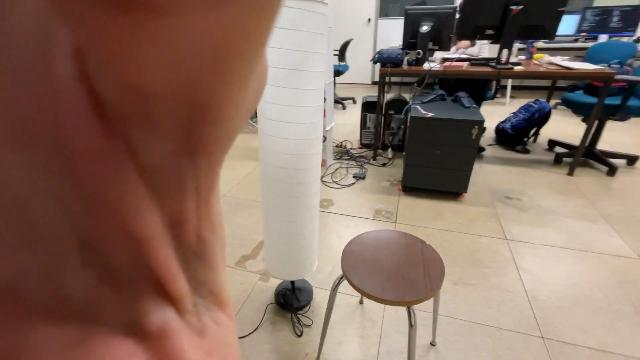Lamp: (252, 0, 336, 320)
Stool: (310, 224, 448, 360)
